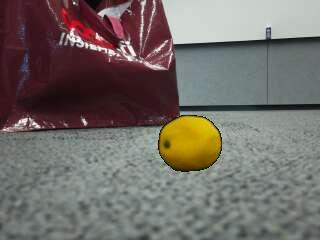lemon: (159, 116, 220, 171)
